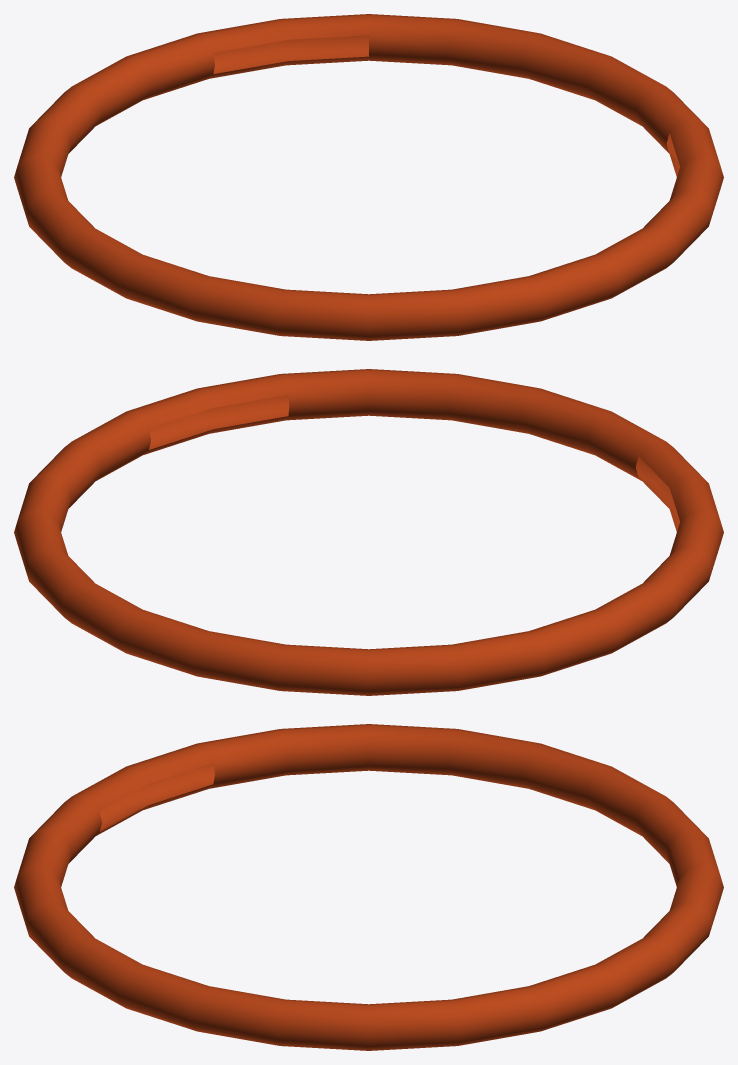
The model's file is SteeringWheel_Outer2.FBX.
The picture shows the model from 3 angles, top to bottom: view 1: azimuth 30°, elevation 25°; view 2: azimuth 150°, elevation 25°; view 3: azimuth 270°, elevation 25°; orthographic projection.
Parts seen in each view (by area): view 1: Torus001; view 2: Torus001; view 3: Torus001.
Boxes of the visible parts, left/top/right/bottom form: Torus001: left=14, top=14, right=723, bottom=340; Torus001: left=14, top=369, right=723, bottom=695; Torus001: left=14, top=724, right=723, bottom=1050.
Bounding box in the file's own units: 99.04 × 6.55 × 99.04.
